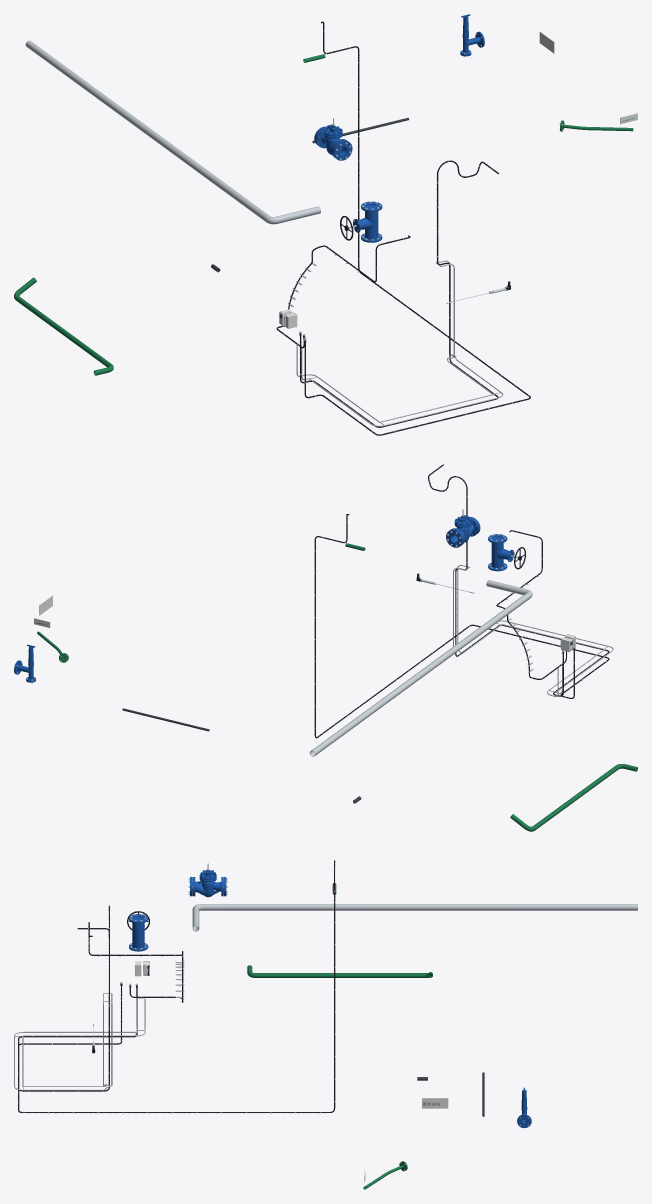
3 views of the same model, one above another, from view 1: azimuth 30°, elevation 25°; view 2: azimuth 150°, elevation 25°; view 3: azimuth 270°, elevation 25° (orthographic). The views are drawn at different scales.
Parts seen in each view (by area): view 1: safety_vent_1 / steel, mod_direct_drive_cable / black, cables / zinc, wiring_pressure_switch_1 / black, deaerator_feed / green, steam_manual / blue, gpz CAD solid 0; view 2: safety_vent_1 / steel, mod_direct_drive_cable / black, cables / zinc, deaerator_feed / green, wiring_pressure_switch_1 / black, steam_manual / blue; view 3: safety_vent_1 / steel, cables / zinc, mod_direct_drive_cable / black, deaerator_feed / green, wiring_pressure_switch_1 / black, gpz CAD solid 0, steam_manual / blue.
Boxes of the visible parts, <box> form: safety_vent_1 / steel: <box>25,40,320,224</box>; mod_direct_drive_cable / black: <box>304,21,530,435</box>; cables / zinc: <box>296,260,503,426</box>; wiring_pressure_switch_1 / black: <box>300,160,498,427</box>; deaerator_feed / green: <box>14,277,113,375</box>; steam_manual / blue: <box>353,201,382,242</box>; gpz CAD solid 0: <box>316,118,346,157</box>; safety_vent_1 / steel: <box>309,580,532,756</box>; mod_direct_drive_cable / black: <box>314,514,609,738</box>; cables / zinc: <box>453,565,613,696</box>; deaerator_feed / green: <box>510,764,637,831</box>; wiring_pressure_switch_1 / black: <box>428,464,609,696</box>; steam_manual / blue: <box>488,534,514,571</box>; safety_vent_1 / steel: <box>192,904,637,931</box>; cables / zinc: <box>14,993,145,1090</box>; mod_direct_drive_cable / black: <box>18,860,335,1112</box>; deaerator_feed / green: <box>247,965,432,977</box>; wiring_pressure_switch_1 / black: <box>18,905,137,1091</box>; gpz CAD solid 0: <box>192,863,223,897</box>; steam_manual / blue: <box>129,914,148,951</box>.
Bounding box in the file's own units: 7.22 × 3.07 × 7.07.
